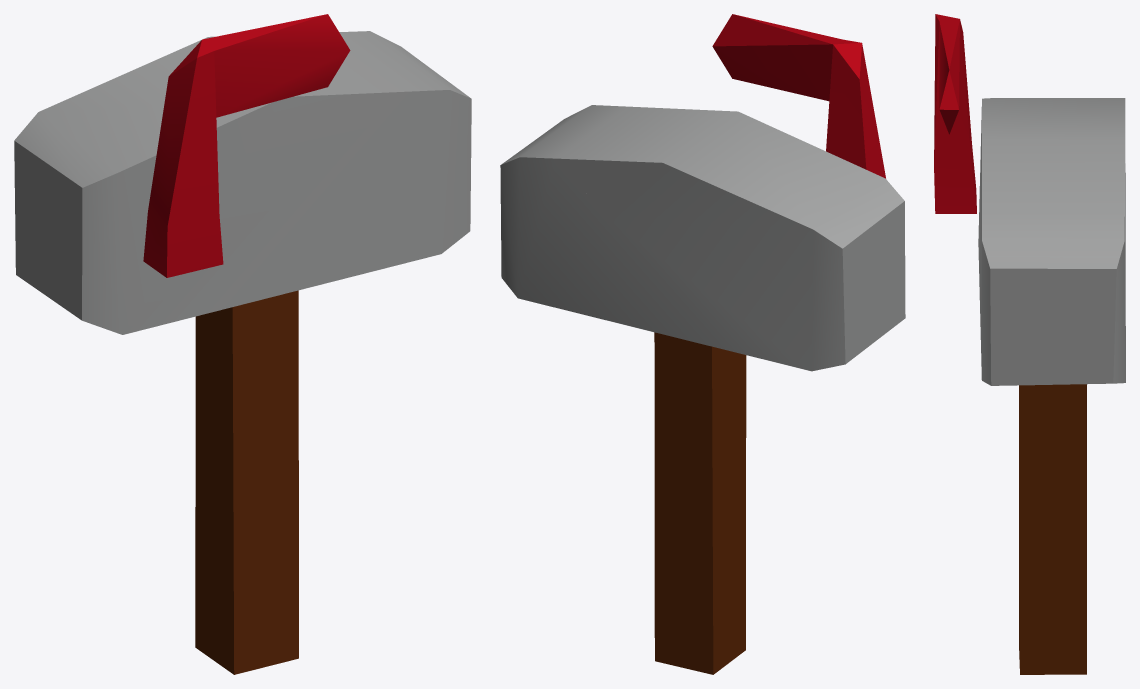
The model's file is Mailbox 1 Fractured.fbx.
3 views of the same model, side by side, from view 1: azimuth 30°, elevation 25°; view 2: azimuth 150°, elevation 25°; view 3: azimuth 270°, elevation 25° (orthographic). The views are drawn at different scales.
Visible parts, largest first — view 1: Mailbox_01_Breaking.001, Mailbox_01_Breaking; view 2: Mailbox_01_Breaking.001, Mailbox_01_Breaking; view 3: Mailbox_01_Breaking, Mailbox_01_Breaking.001.
Boxes of the visible parts, box(x1,y1,x2,y2) form: Mailbox_01_Breaking.001: box(14, 14, 409, 334); Mailbox_01_Breaking: box(195, 31, 471, 674); Mailbox_01_Breaking.001: box(556, 14, 905, 371); Mailbox_01_Breaking: box(500, 105, 746, 674); Mailbox_01_Breaking: box(979, 216, 1125, 674); Mailbox_01_Breaking.001: box(934, 14, 1125, 284).
Size of the model in its own units: 49.8 by 82.73 by 23.99.
